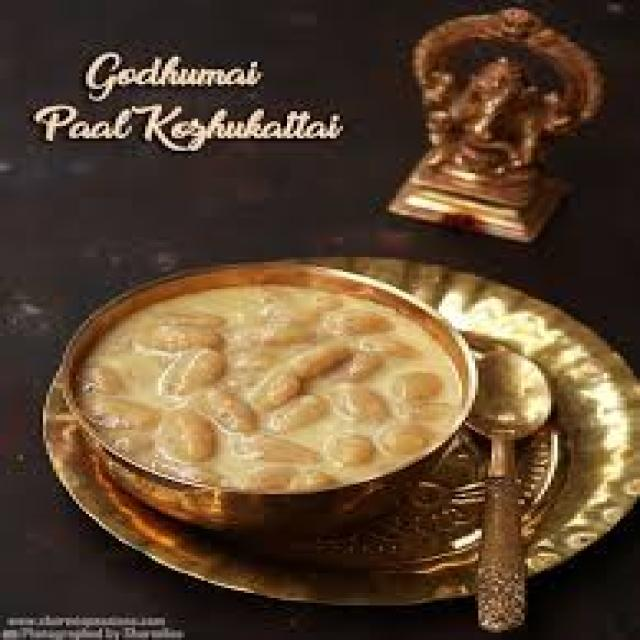paal kolukattai: (41, 254, 506, 515)
